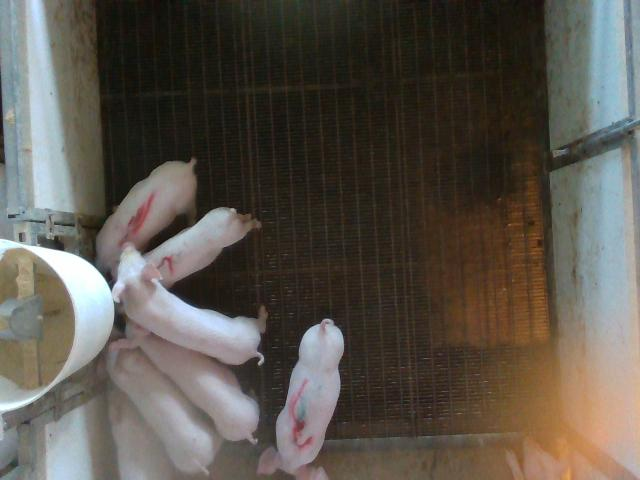pig-1: (96, 159, 194, 277)
pig-3: (258, 319, 344, 479)
pig-5: (145, 208, 261, 288)
